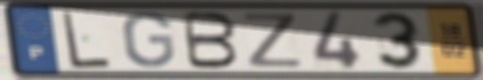3: (368, 10, 426, 71)
4: (309, 9, 364, 72)
B: (181, 10, 241, 71)
G: (120, 10, 178, 70)
L: (59, 9, 114, 71)
Z: (240, 11, 305, 69)
